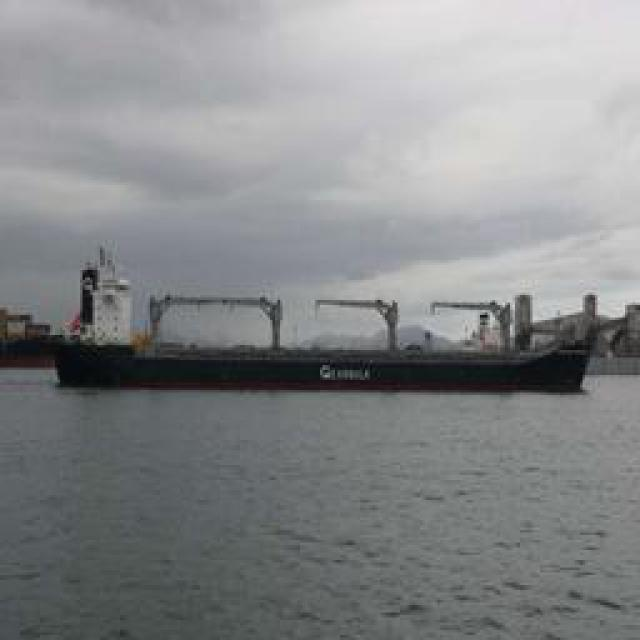Ship: (48, 290, 603, 390)
